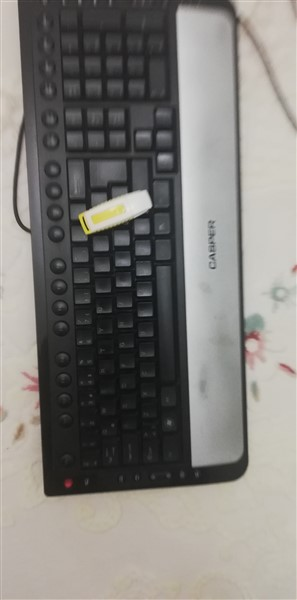flash disk: (77, 183, 155, 236)
klavye: (12, 1, 254, 501)
